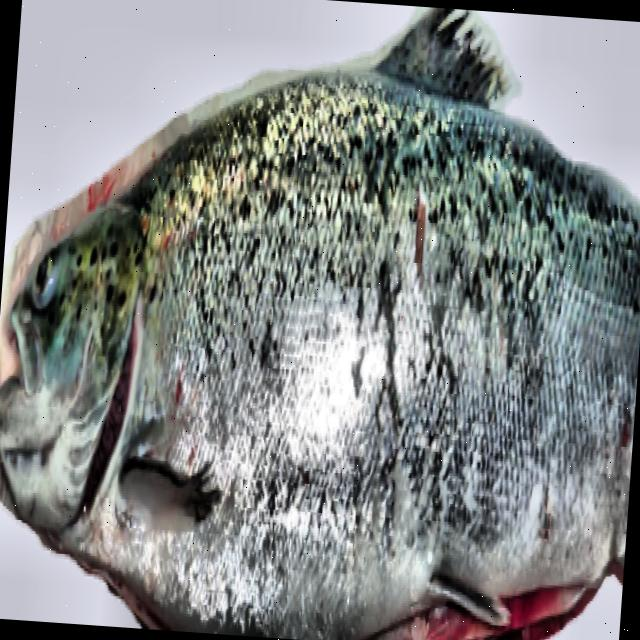mild_red: (89, 73, 640, 640)
wound: (361, 578, 601, 640), (80, 325, 138, 509), (74, 554, 179, 628)
